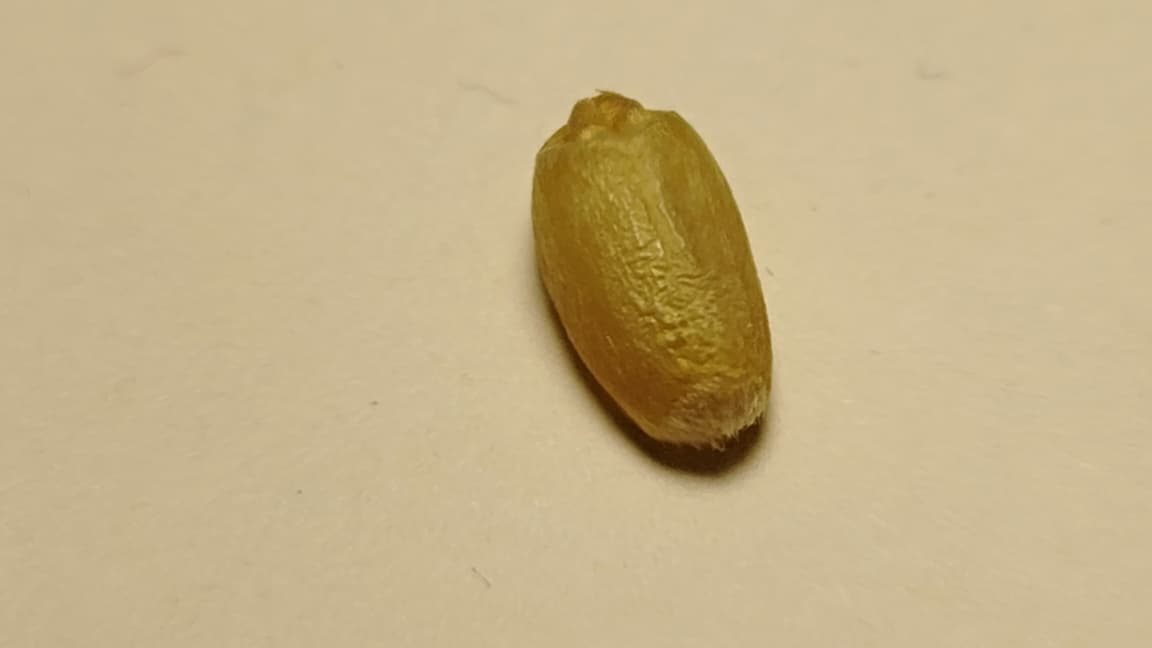healthy: (532, 91, 771, 450)
